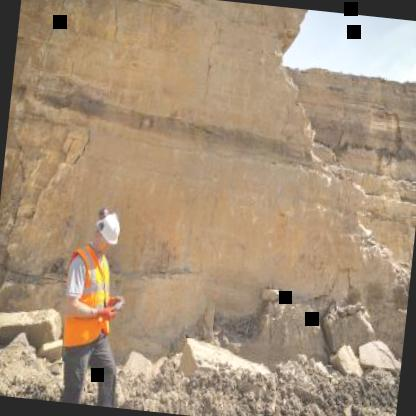helmet: (92, 208, 122, 254)
